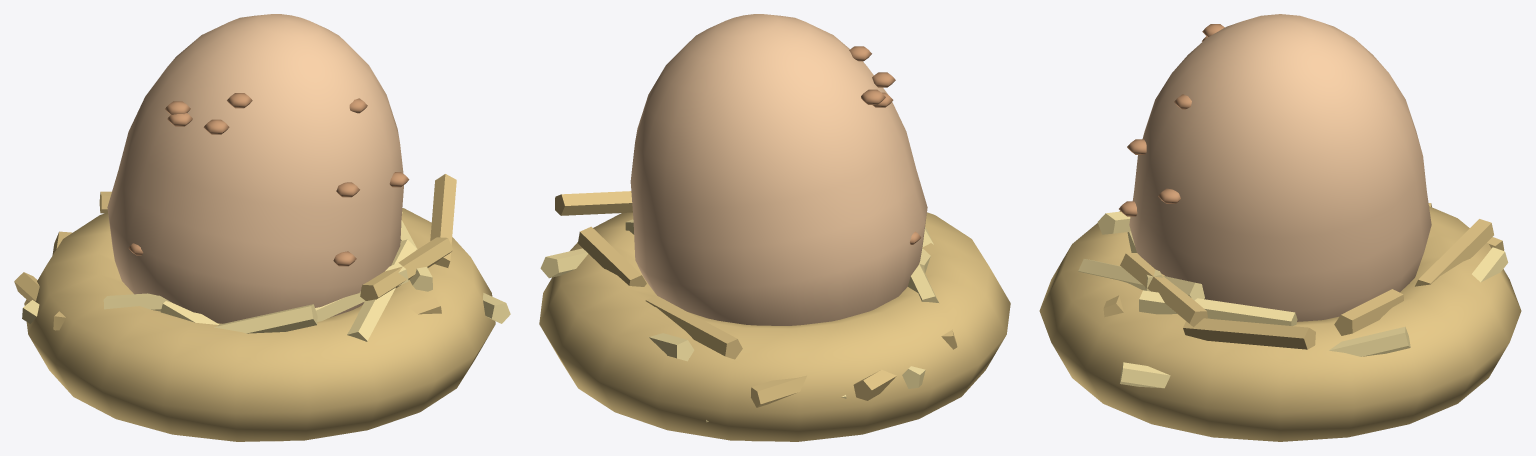
Rendered from egg.glb.
3 renders of one model, left to right at view 1: azimuth 30°, elevation 25°; view 2: azimuth 150°, elevation 25°; view 3: azimuth 270°, elevation 25°, orthographic.
Parts seen in each view (by area): view 1: egg; view 2: egg; view 3: egg.
Boxes of the visible parts, bbox=[...] form: egg: bbox=[14, 14, 510, 441]; egg: bbox=[539, 14, 1010, 441]; egg: bbox=[1039, 14, 1521, 441].
Bounding box in the file's own units: 0.2921 × 0.2332 × 0.29.
